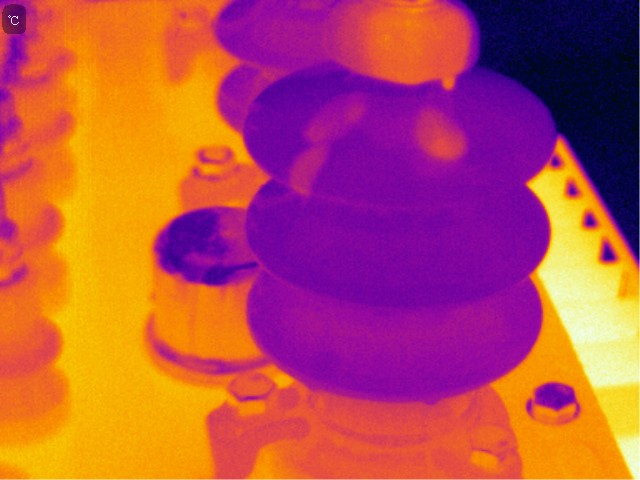Oil: (346, 1, 477, 92), (284, 87, 374, 201), (410, 102, 473, 162), (421, 390, 442, 407)
